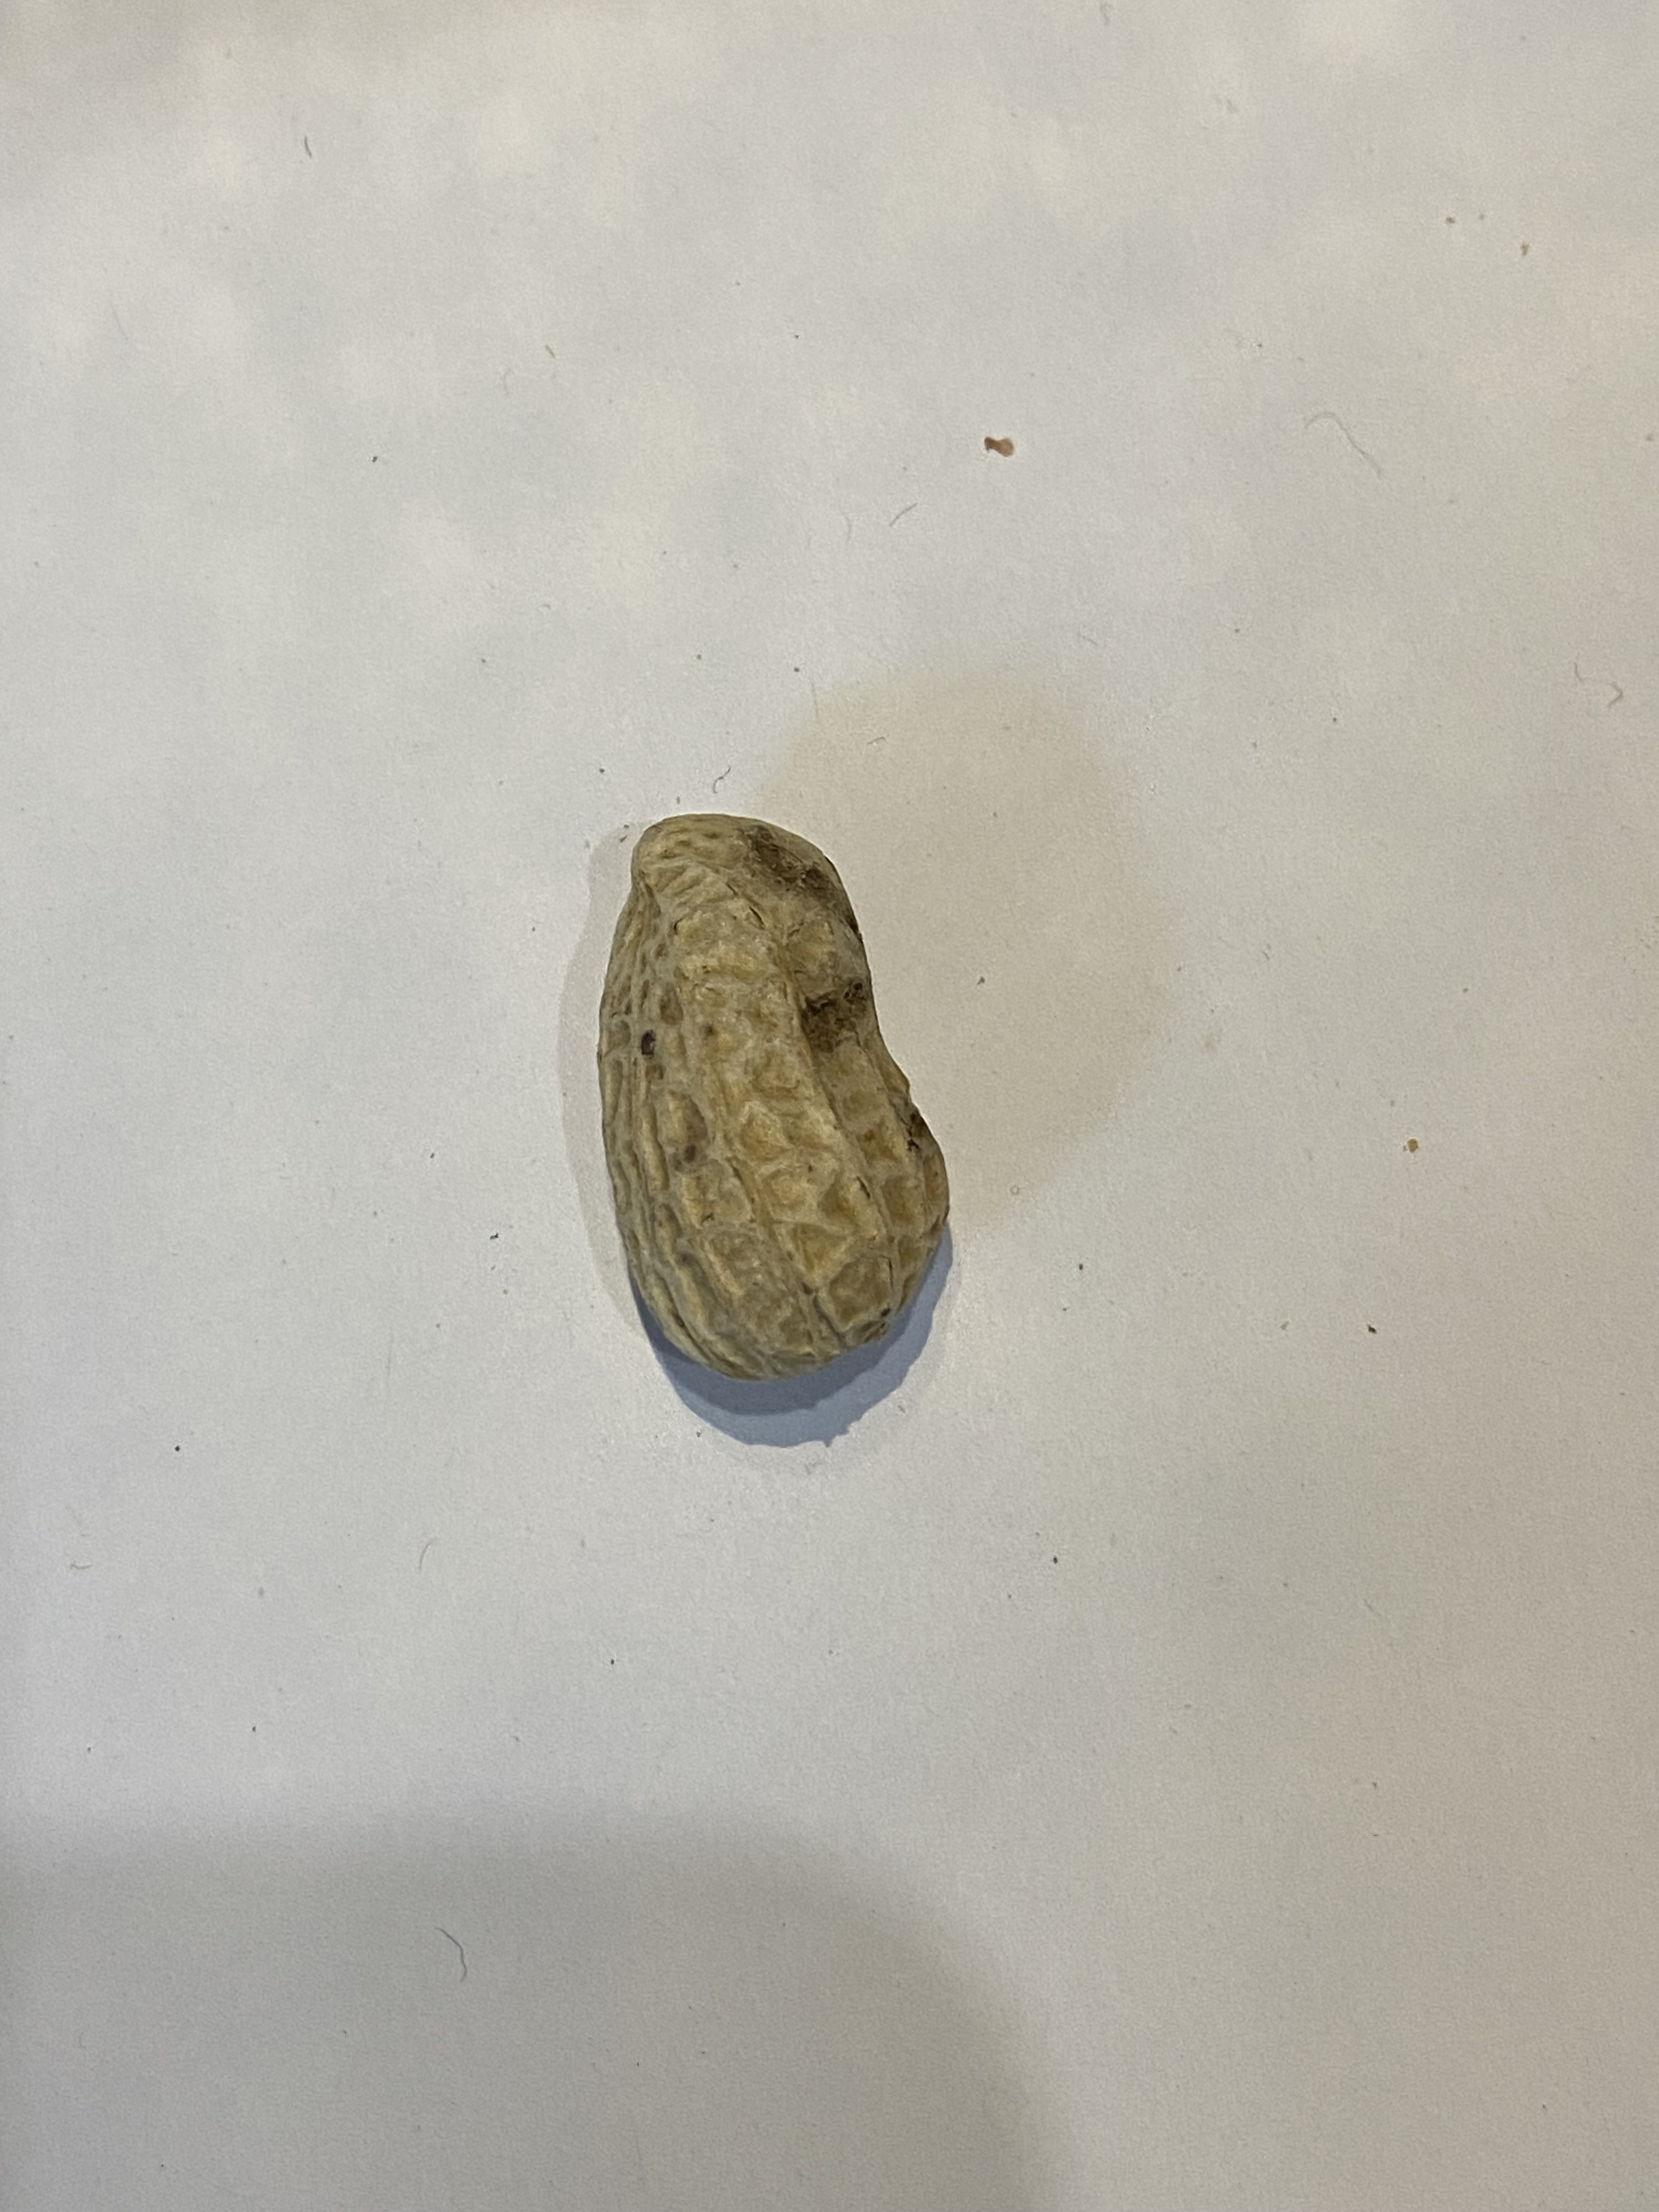kacang2: (547, 801, 958, 1400)
